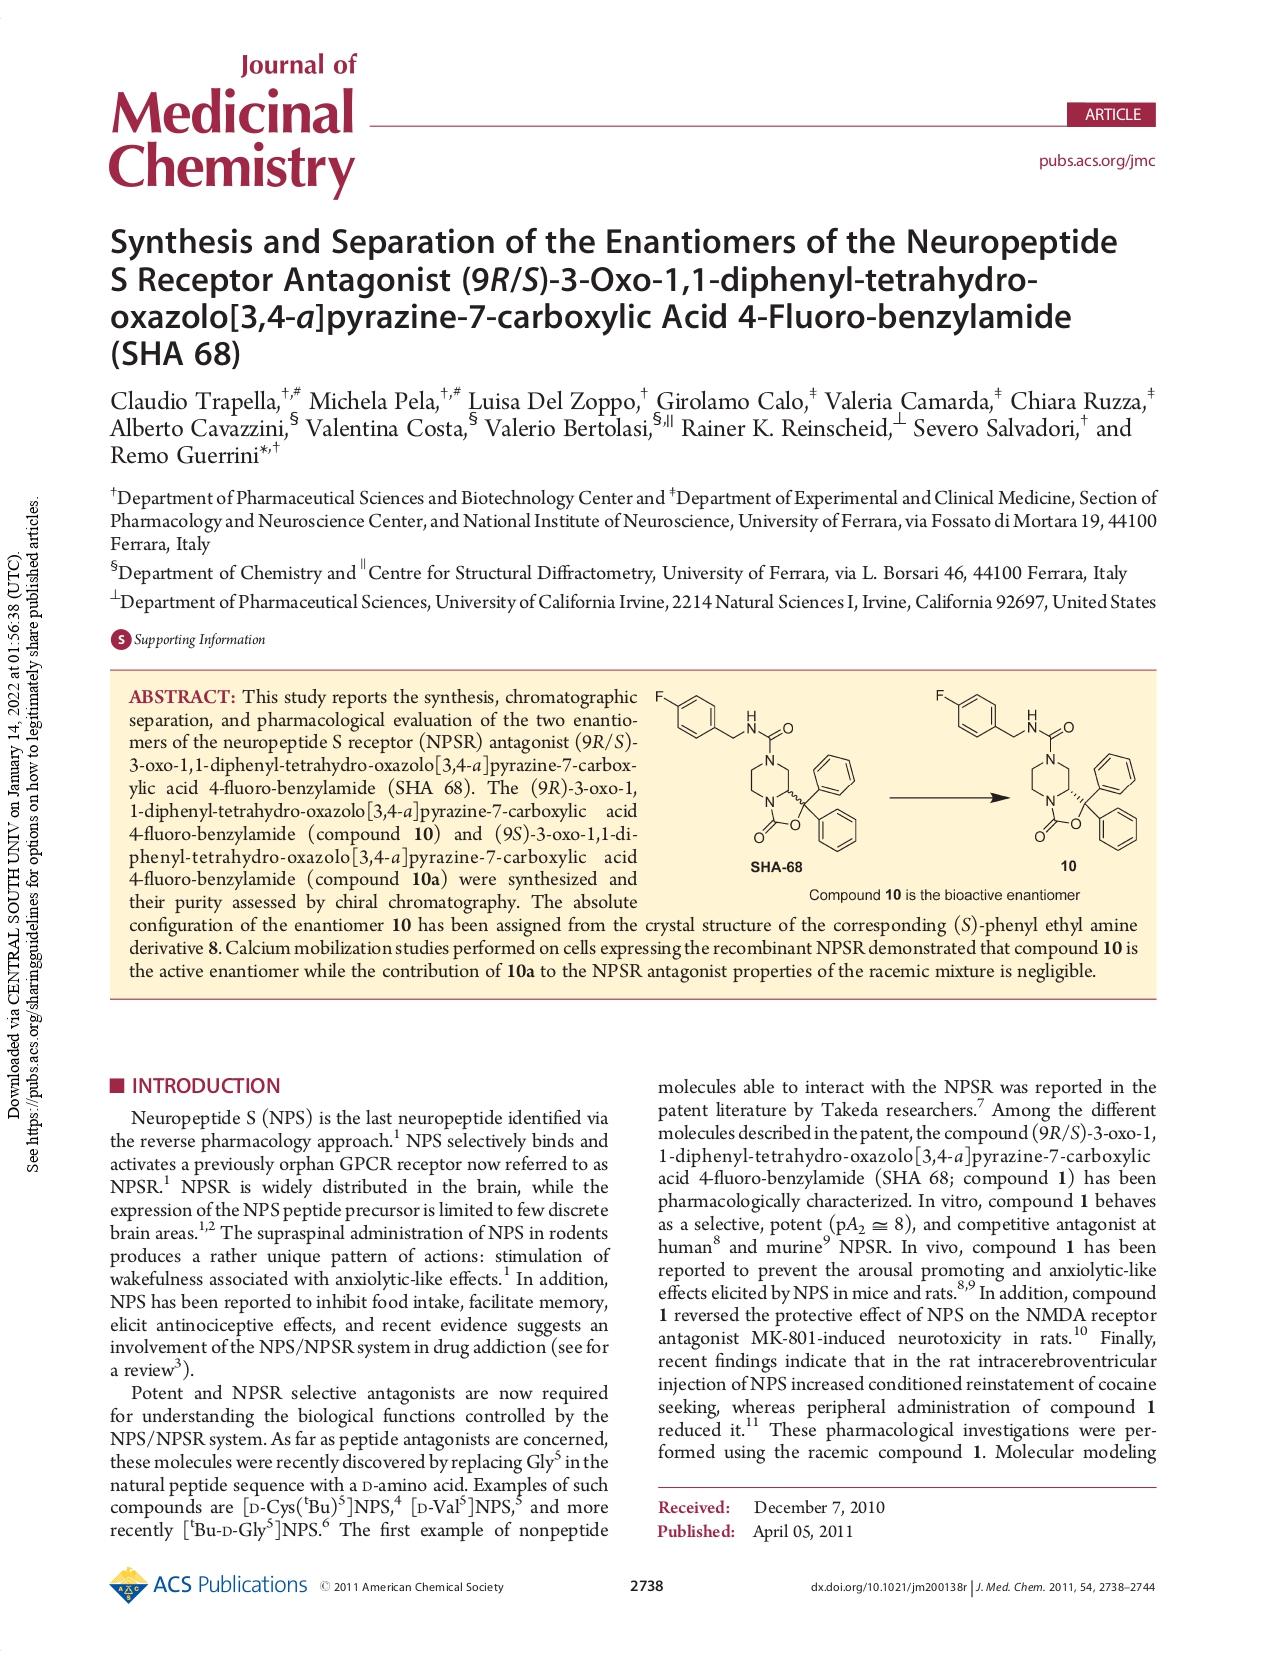exist_molecular: (650, 684, 860, 855), (930, 685, 1144, 852)
